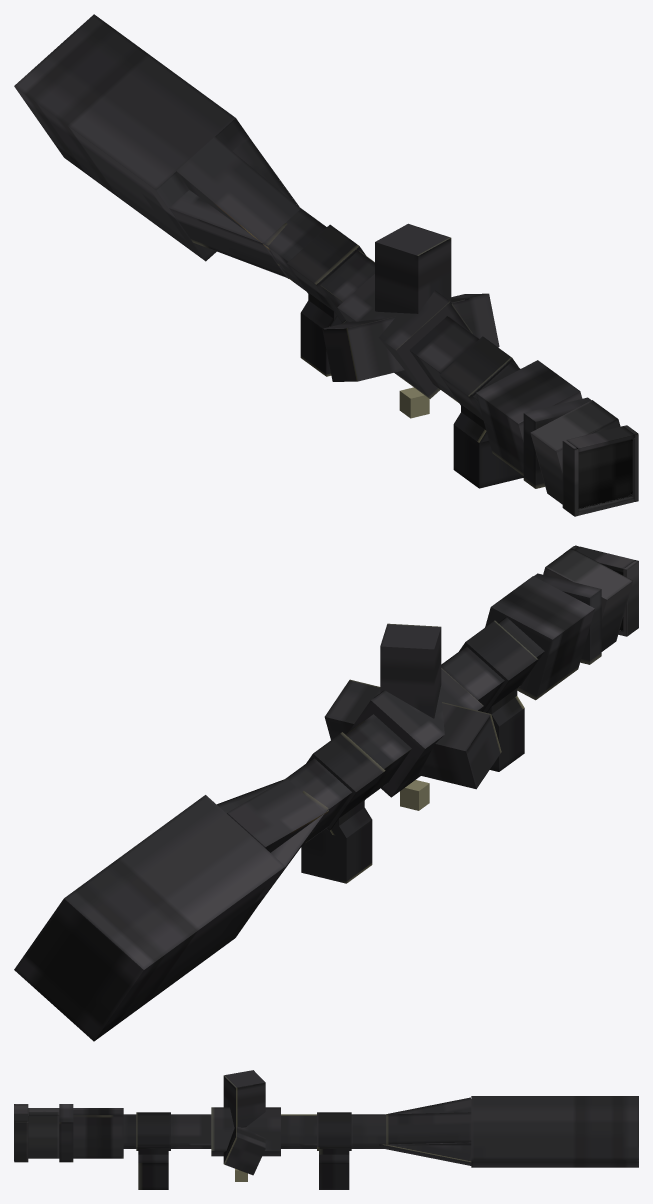
The model's file is wolf scope.obj.
The picture shows the model from 3 angles, top to bottom: view 1: azimuth 30°, elevation 25°; view 2: azimuth 150°, elevation 25°; view 3: azimuth 270°, elevation 25°; orthographic projection. The views are drawn at different scales.
Parts seen in each view (by area): view 1: gun_27, scopepip_1, _ca_scope_1; view 2: gun_27, _ca_scope_1; view 3: gun_27.
Part boxes in pixels (<box>): gun_27: <box>14,14,638,516</box>; scopepip_1: <box>578,439,632,508</box>; _ca_scope_1: <box>399,387,429,418</box>; gun_27: <box>14,545,638,1041</box>; _ca_scope_1: <box>400,780,429,810</box>; gun_27: <box>14,1070,638,1189</box>.
Bounding box in the file's own units: 0.4688 × 0.5595 × 3.03.
